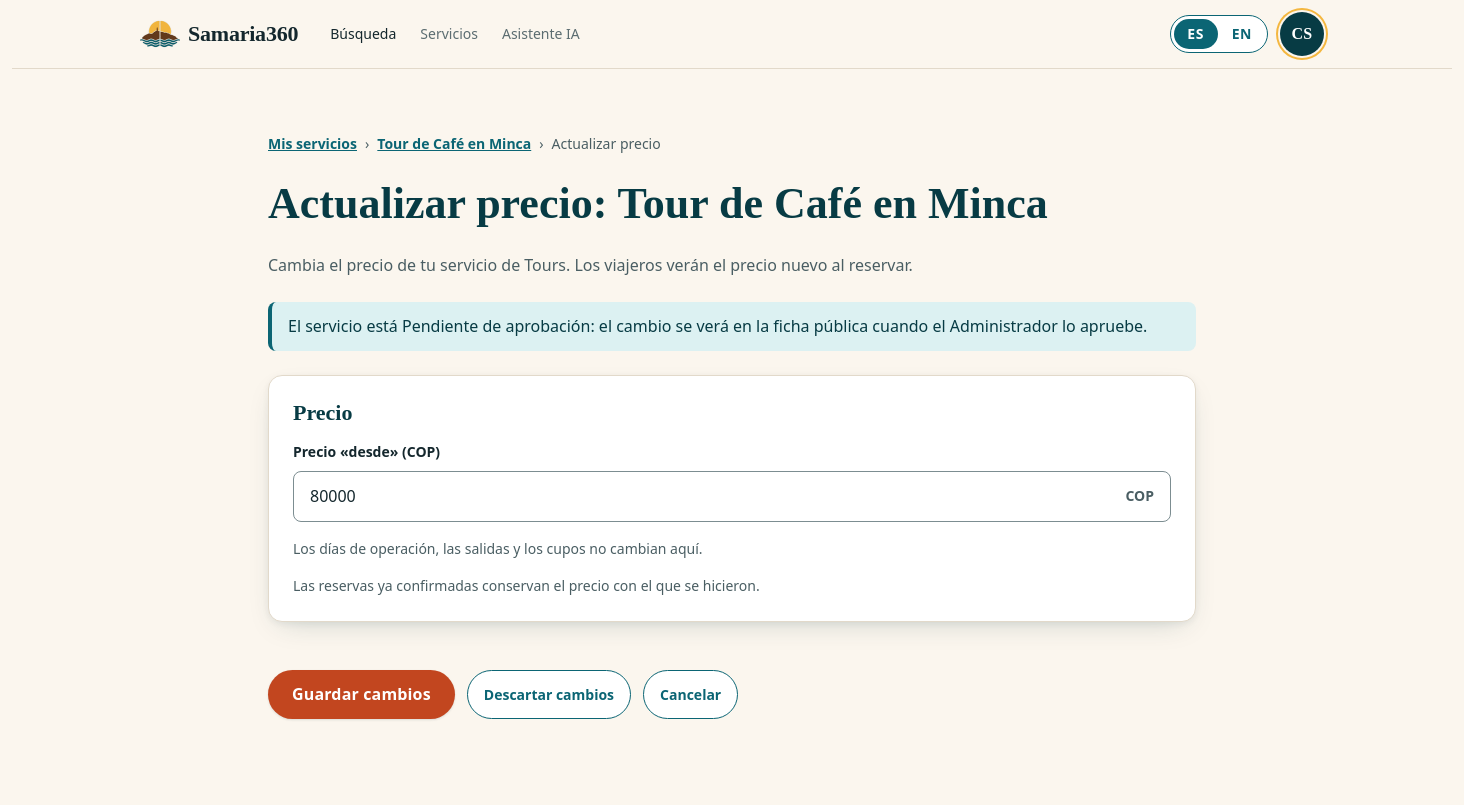
Test: Precio de un Tour (RF32) › 409 ESTADO_CAMBIADO: vuelve al detalle con el aviso y sin acciones de edición
This screenshot has width=1464, height=805.
Click the button "Guardar cambios": (361, 694) [268, 670, 455, 719]
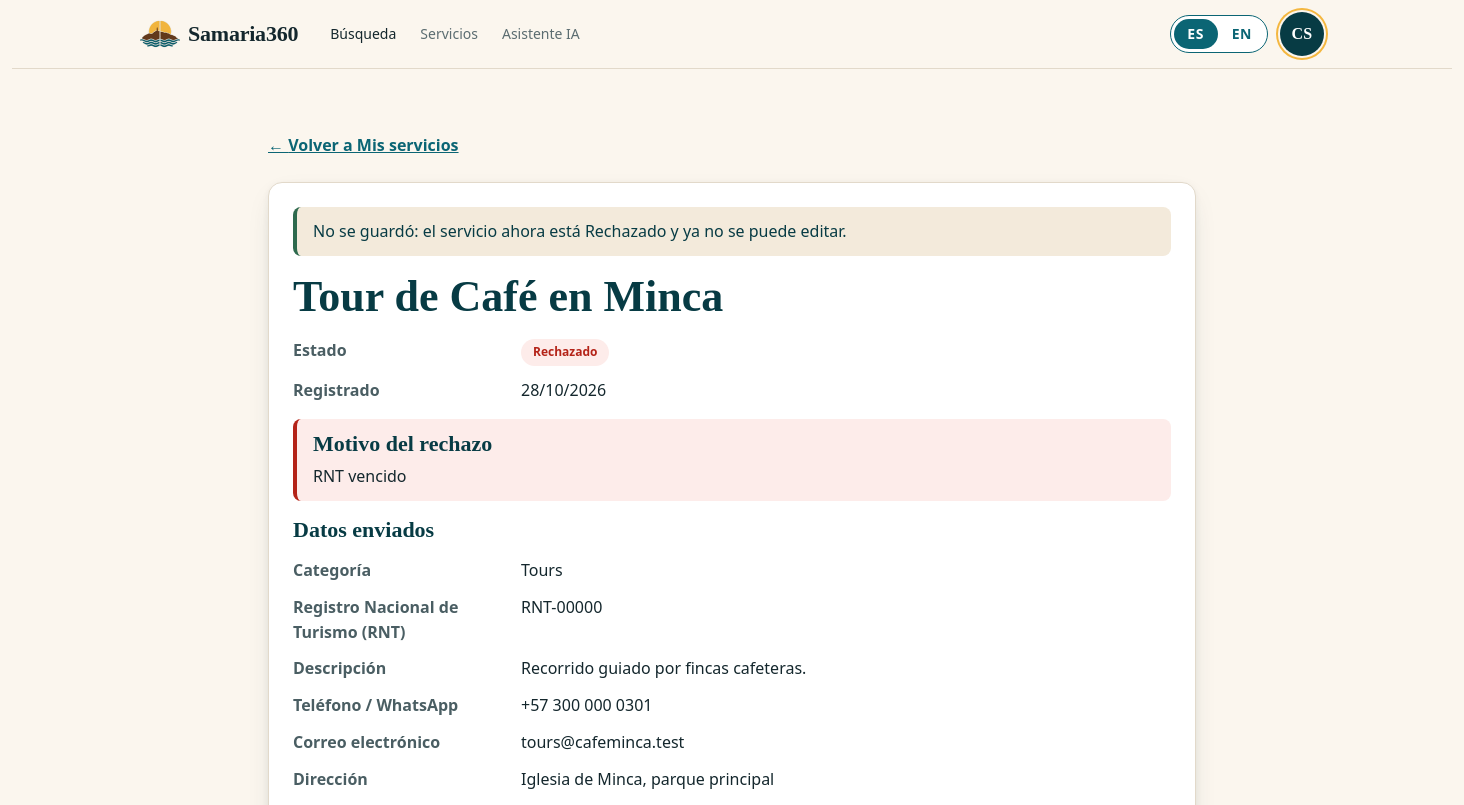
Expected: the text "No se guardó: el servicio ahora está Rechazado y ya no se puede editar." is shown, [293, 207, 1171, 256]
Expected: the list item "Actualizar precio" is gone
